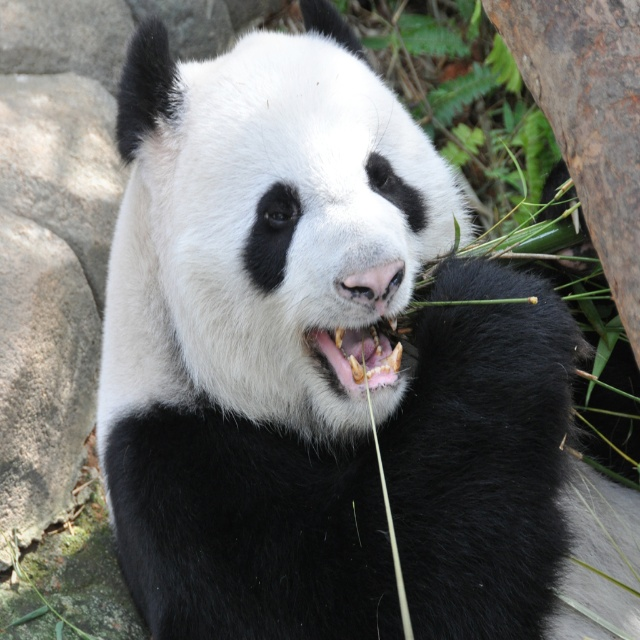Panda: (98, 0, 640, 639)
